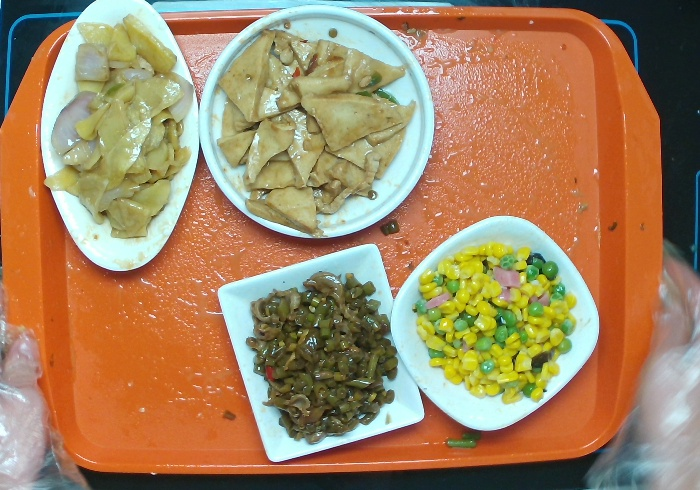HZYJPL-Si_Fang_Die: (210, 242, 428, 466)
HZYJPL-Si_Fang_Yuan_Die: (388, 213, 601, 438)
HZYJPL-Xiao_Yu_Die: (33, 1, 207, 278)
HZYJPL-Xiao_Yuan_Die: (194, 1, 437, 242)
